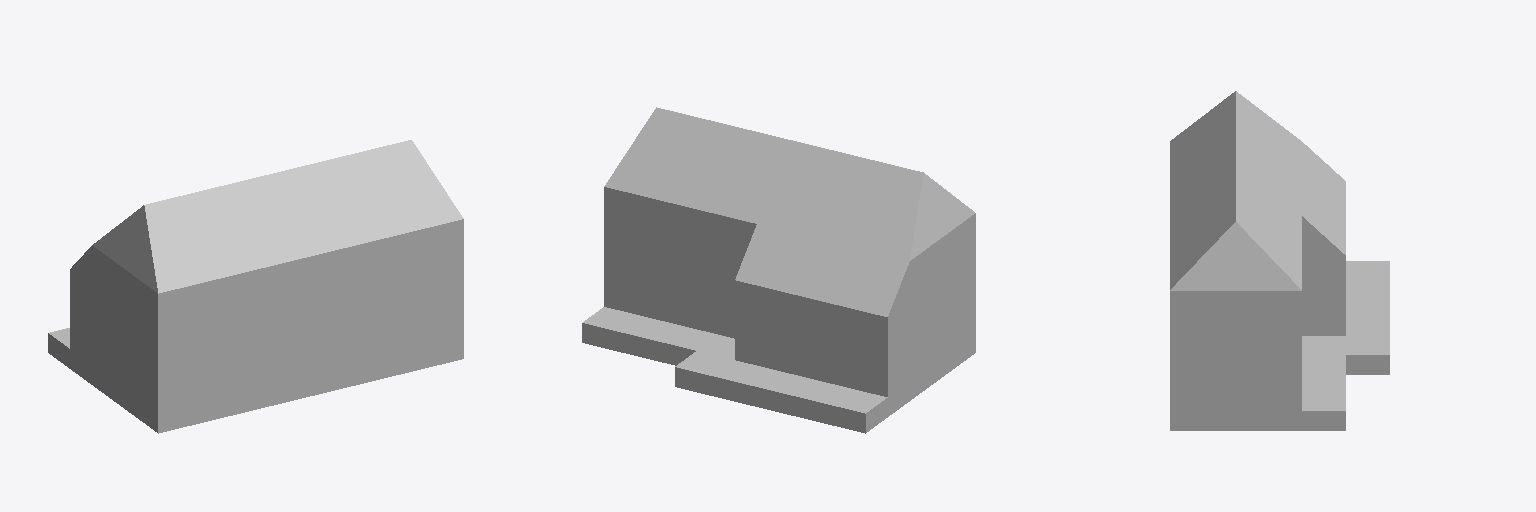
The model's file is house1.obj.
The picture shows the model from 3 angles: view 1: azimuth 30°, elevation 25°; view 2: azimuth 150°, elevation 25°; view 3: azimuth 270°, elevation 25°; orthographic projection.
Visible parts, largest first — view 1: mesh01; view 2: mesh01; view 3: mesh01.
Boxes of the visible parts, <box> form: mesh01: <box>48,140,463,433</box>; mesh01: <box>582,107,975,433</box>; mesh01: <box>1170,91,1389,430</box>.
Size of the model in its own units: 256 by 160 by 160.